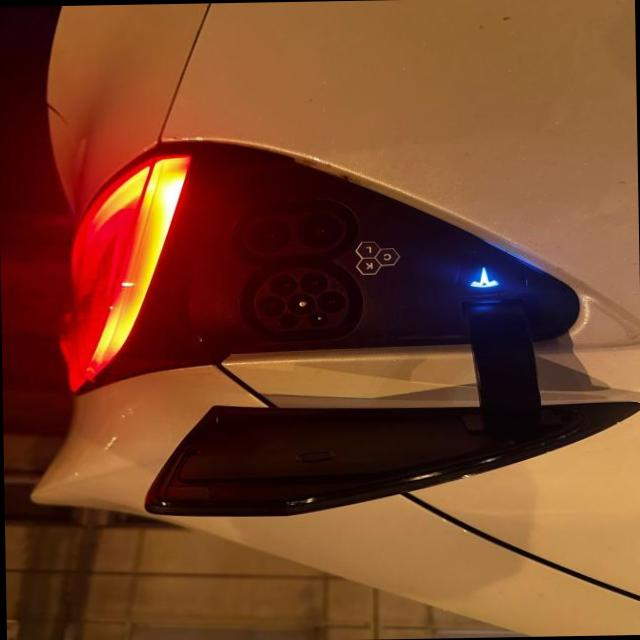inlet: (253, 267, 348, 330)
inlet-above-left: (307, 310, 326, 325)
inlet-above-right: (277, 313, 297, 328)
inlet-below-left: (298, 271, 326, 294)
inlet-below-right: (269, 273, 296, 295)
inlet-center: (286, 292, 314, 314)
inlet-center-left: (316, 290, 344, 312)
inlet-center-right: (256, 294, 284, 316)
